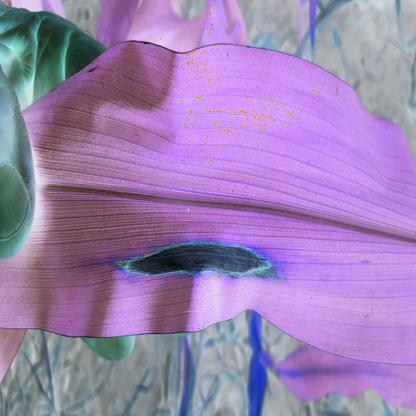corn leaf blight: (43, 44, 416, 353)
